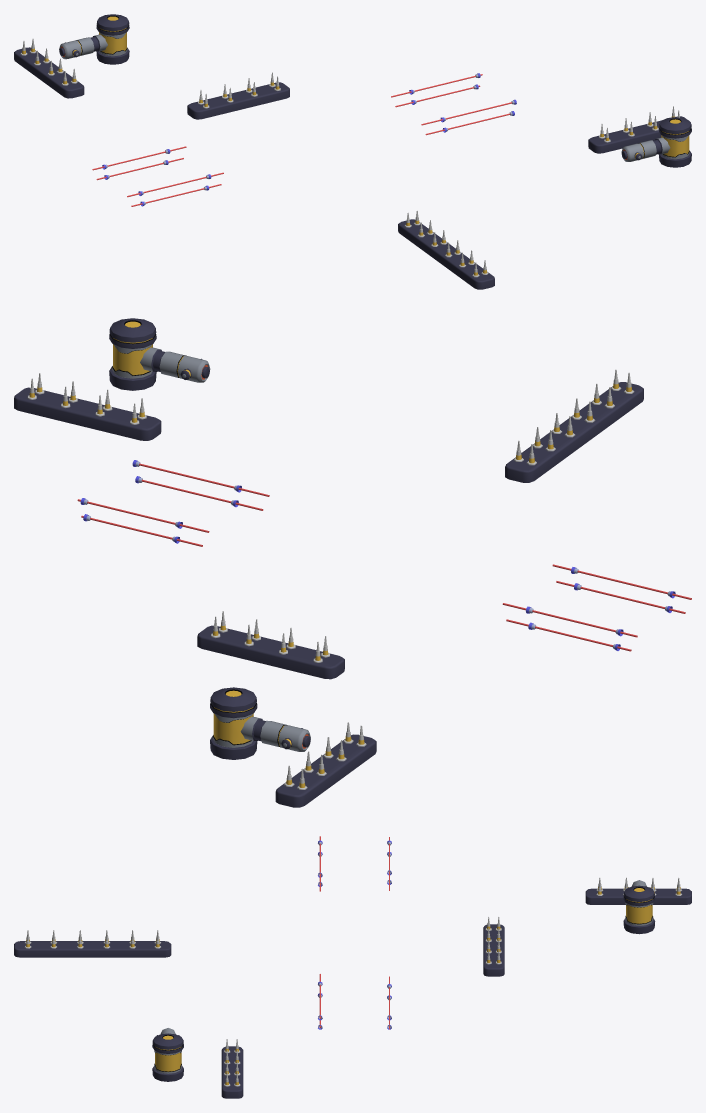
3 views of the same model, one above another, from view 1: azimuth 30°, elevation 25°; view 2: azimuth 150°, elevation 25°; view 3: azimuth 270°, elevation 25° (orthographic). The views are drawn at different scales.
Visible parts, largest first — view 1: Base (×4), pCylinder13 (×2), pCylinder14 (×2); view 2: Base (×4), pCylinder13 (×2), pCylinder14 (×2); view 3: Base (×4), pCylinder13 (×2).
Boxes of the visible parts, <box> form: Base (×4): <box>14,47,690,289</box>; pCylinder13 (×2): <box>96,14,691,167</box>; pCylinder14 (×2): <box>59,34,670,161</box>; Base (×4): <box>14,382,643,807</box>; pCylinder13 (×2): <box>109,318,257,759</box>; pCylinder14 (×2): <box>140,347,310,751</box>; Base (×4): <box>14,888,691,1098</box>; pCylinder13 (×2): <box>152,885,655,1081</box>.
Size of the model in its own units: 435 by 34.87 by 518.
